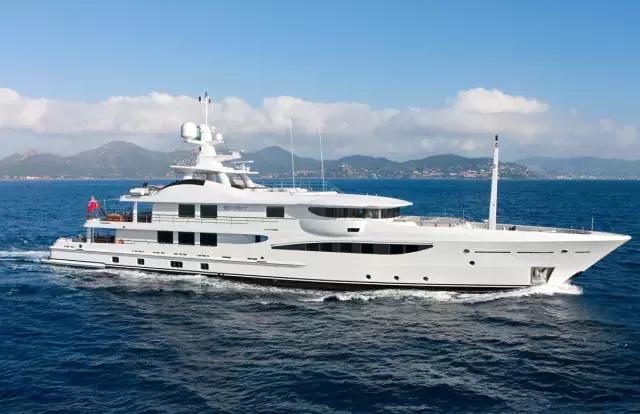yacht: (38, 93, 619, 291)
